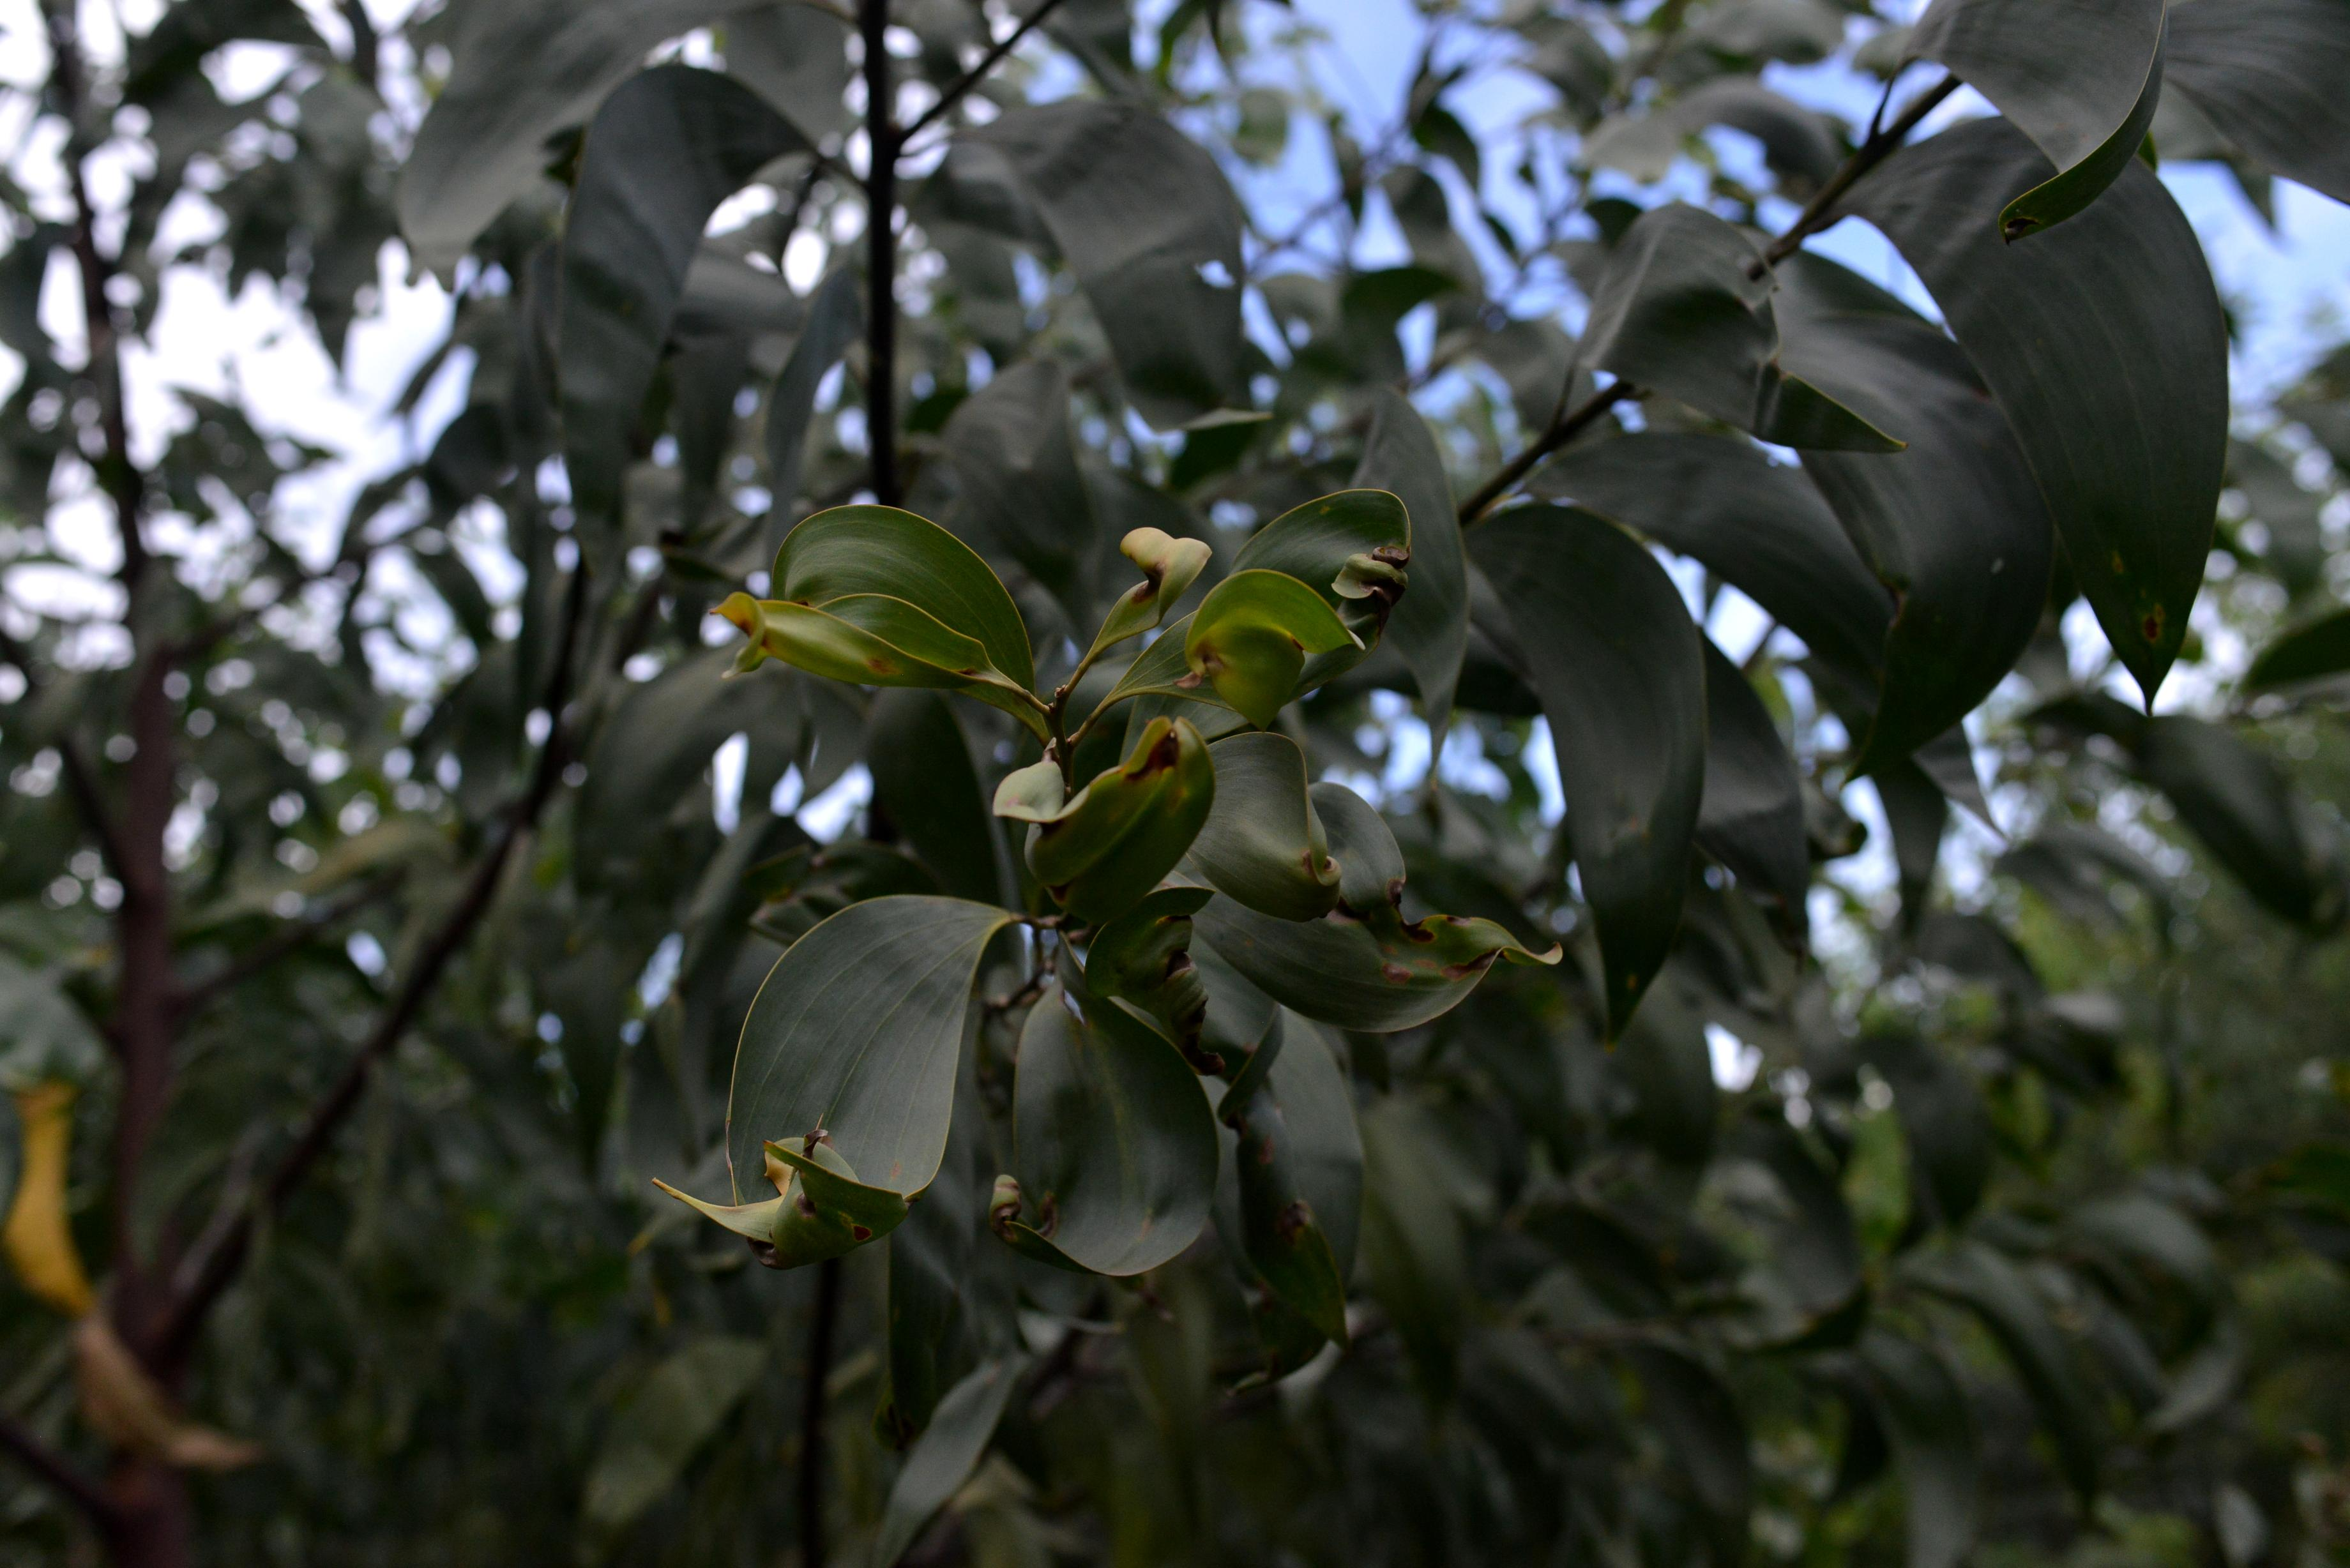Pasalora: (1188, 934, 1363, 1347), (1305, 821, 1606, 1050), (994, 975, 1211, 1283), (1111, 485, 1414, 705), (661, 1108, 950, 1304), (1045, 747, 1279, 966), (712, 584, 1041, 721), (1053, 530, 1213, 707), (1195, 744, 1342, 924), (1199, 574, 1361, 730), (997, 765, 1078, 842)
